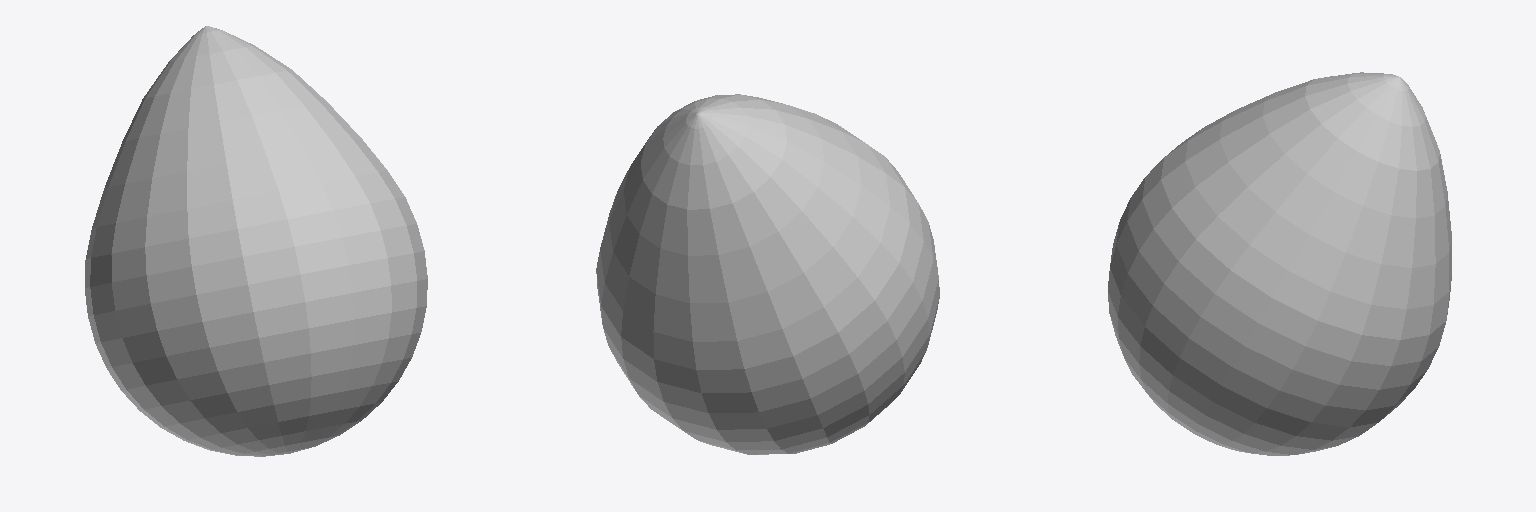
Rendered from water droplet.obj.
The picture shows the model from 3 angles: view 1: azimuth 30°, elevation 25°; view 2: azimuth 150°, elevation 25°; view 3: azimuth 270°, elevation 25°; orthographic projection.
Visible parts, largest first — view 1: pSphere3; view 2: pSphere3; view 3: pSphere3.
Part boxes in pixels (left/top/right/bottom): pSphere3: left=85, top=26, right=427, bottom=456; pSphere3: left=596, top=94, right=939, bottom=454; pSphere3: left=1108, top=72, right=1451, bottom=455.
Bounding box in the file's own units: 1.24 × 1.48 × 1.26.